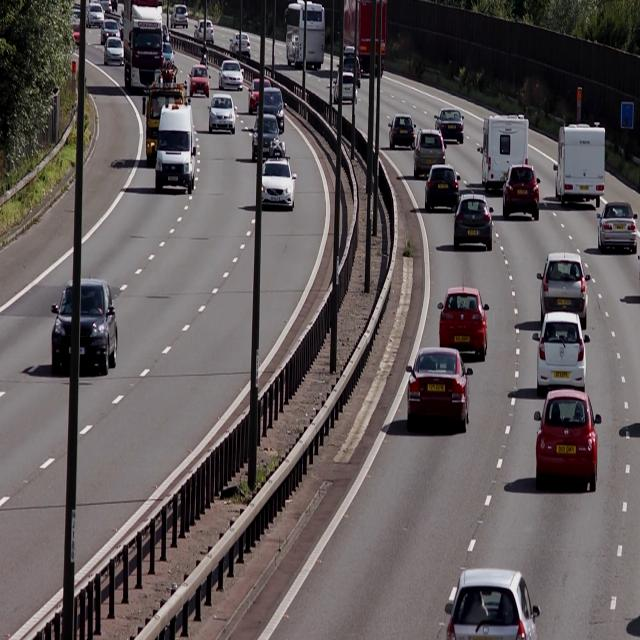Vehicle: (49, 277, 120, 384), (444, 567, 540, 640), (532, 392, 601, 488), (403, 352, 472, 427), (532, 310, 590, 394), (551, 118, 606, 204), (479, 108, 534, 190), (536, 248, 591, 324), (437, 286, 487, 364), (152, 100, 195, 190), (339, 0, 388, 78), (123, 1, 163, 90), (282, 0, 326, 71), (257, 138, 298, 212), (595, 201, 639, 258), (498, 165, 542, 222), (453, 190, 492, 252), (423, 163, 460, 211), (412, 128, 446, 180), (206, 86, 238, 136), (251, 113, 279, 159), (386, 111, 417, 152), (433, 107, 463, 145), (256, 86, 282, 129), (332, 70, 357, 107), (218, 57, 243, 93), (188, 58, 209, 97), (341, 45, 360, 85), (102, 37, 126, 66)
